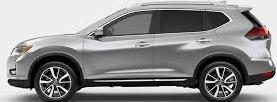SUV: (8, 3, 275, 101)
